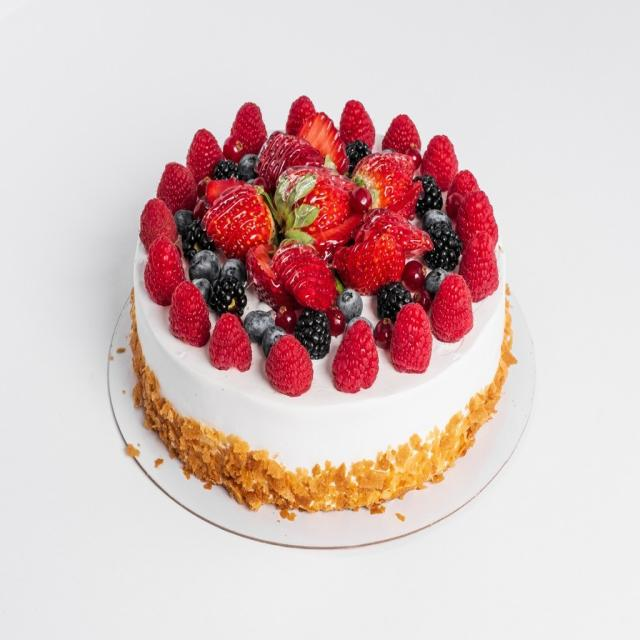Wet Waste: (89, 75, 574, 543)
